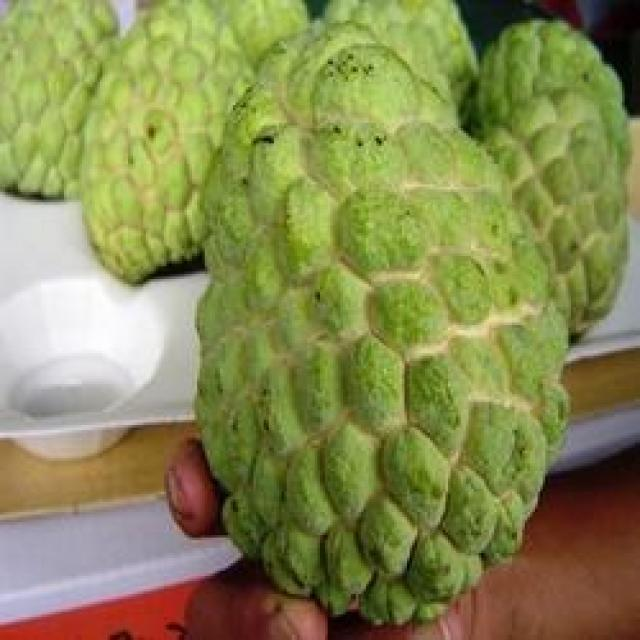apple: (184, 28, 581, 625)
